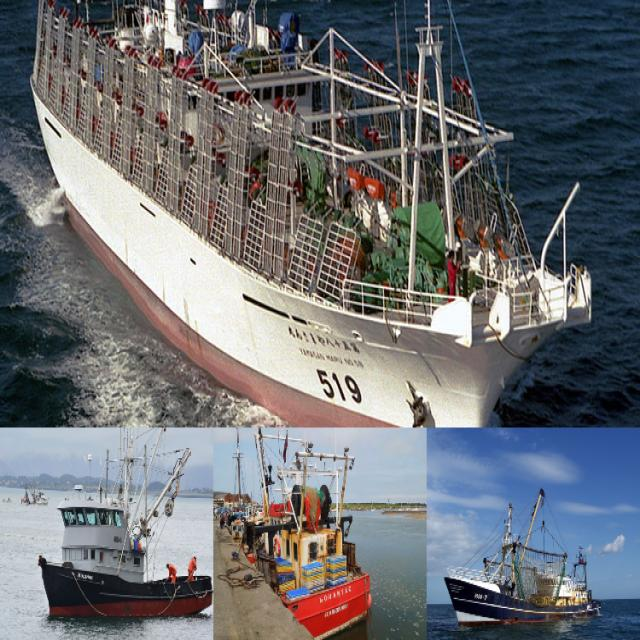boat: (29, 437, 218, 630), (438, 466, 604, 640)
